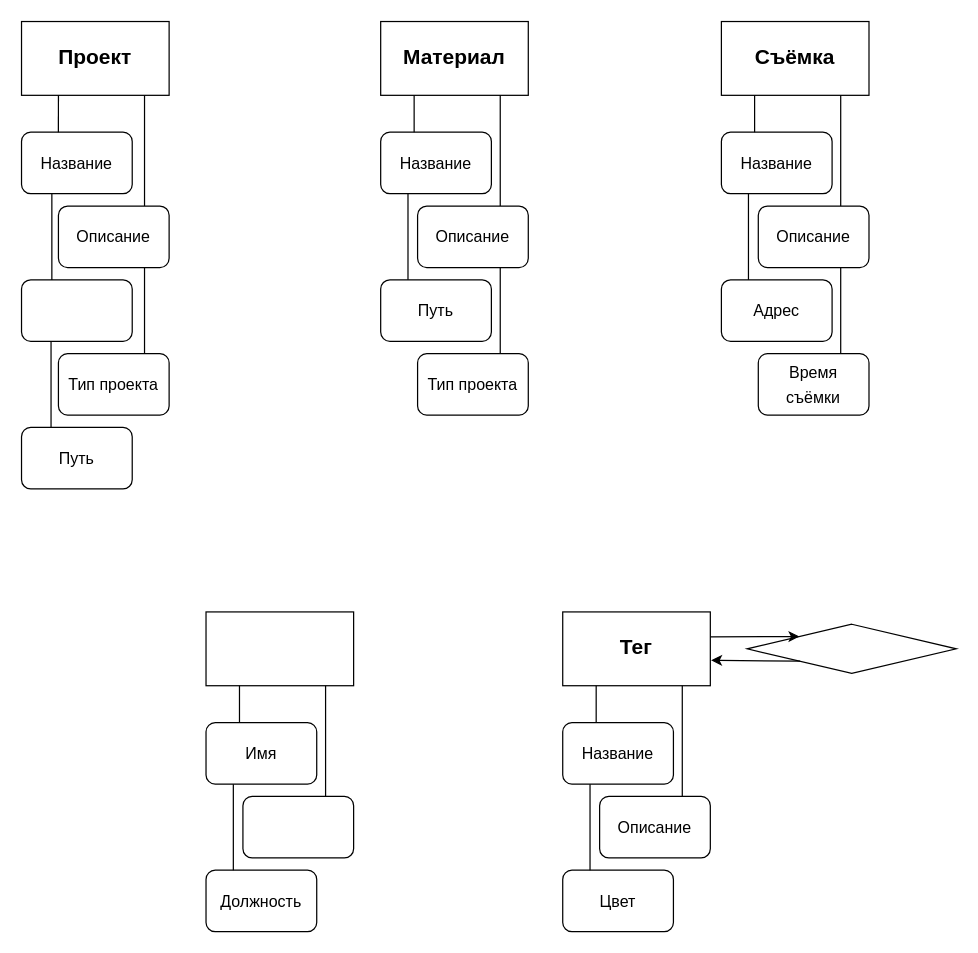
This 978x953 diagram has some shape labels left out. Here are the shapes that lost their labels. From the top down, the centre of each, then its label:
point 76,310: Срок сдачи
point 279,648: Работник
point 851,648: Родитель
point 298,826: Фамилия
